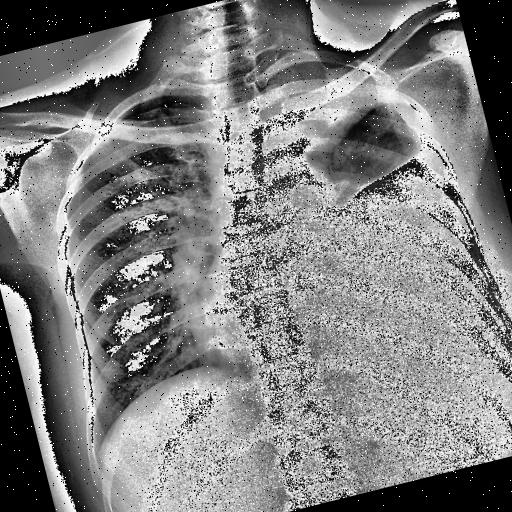10- Pleural effusion: (257, 32, 509, 373), (246, 26, 494, 354), (252, 103, 496, 362)
11- Pleural thickening: (242, 34, 399, 190)
7- Lung Opacity: (242, 34, 399, 190), (304, 95, 432, 200)
